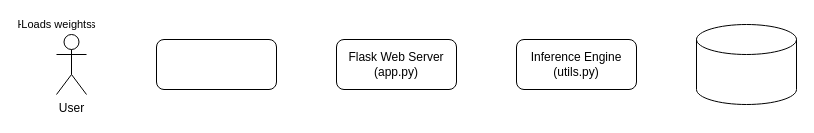
The diagram is 814 pixels wide and 133 high, and some of its shapes have lost their labels. Here are the shapes that lost their labels. From the top down, the box of each, then its label:
(156, 38, 276, 90): Browser (HTML/CSS/JS)
(696, 24, 796, 104): Saved Models (.pkl Artifacts)
